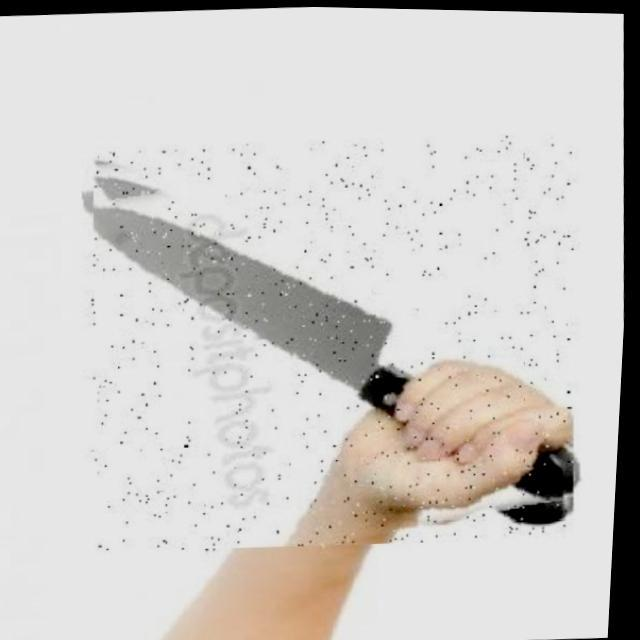knife: (75, 123, 596, 563)
